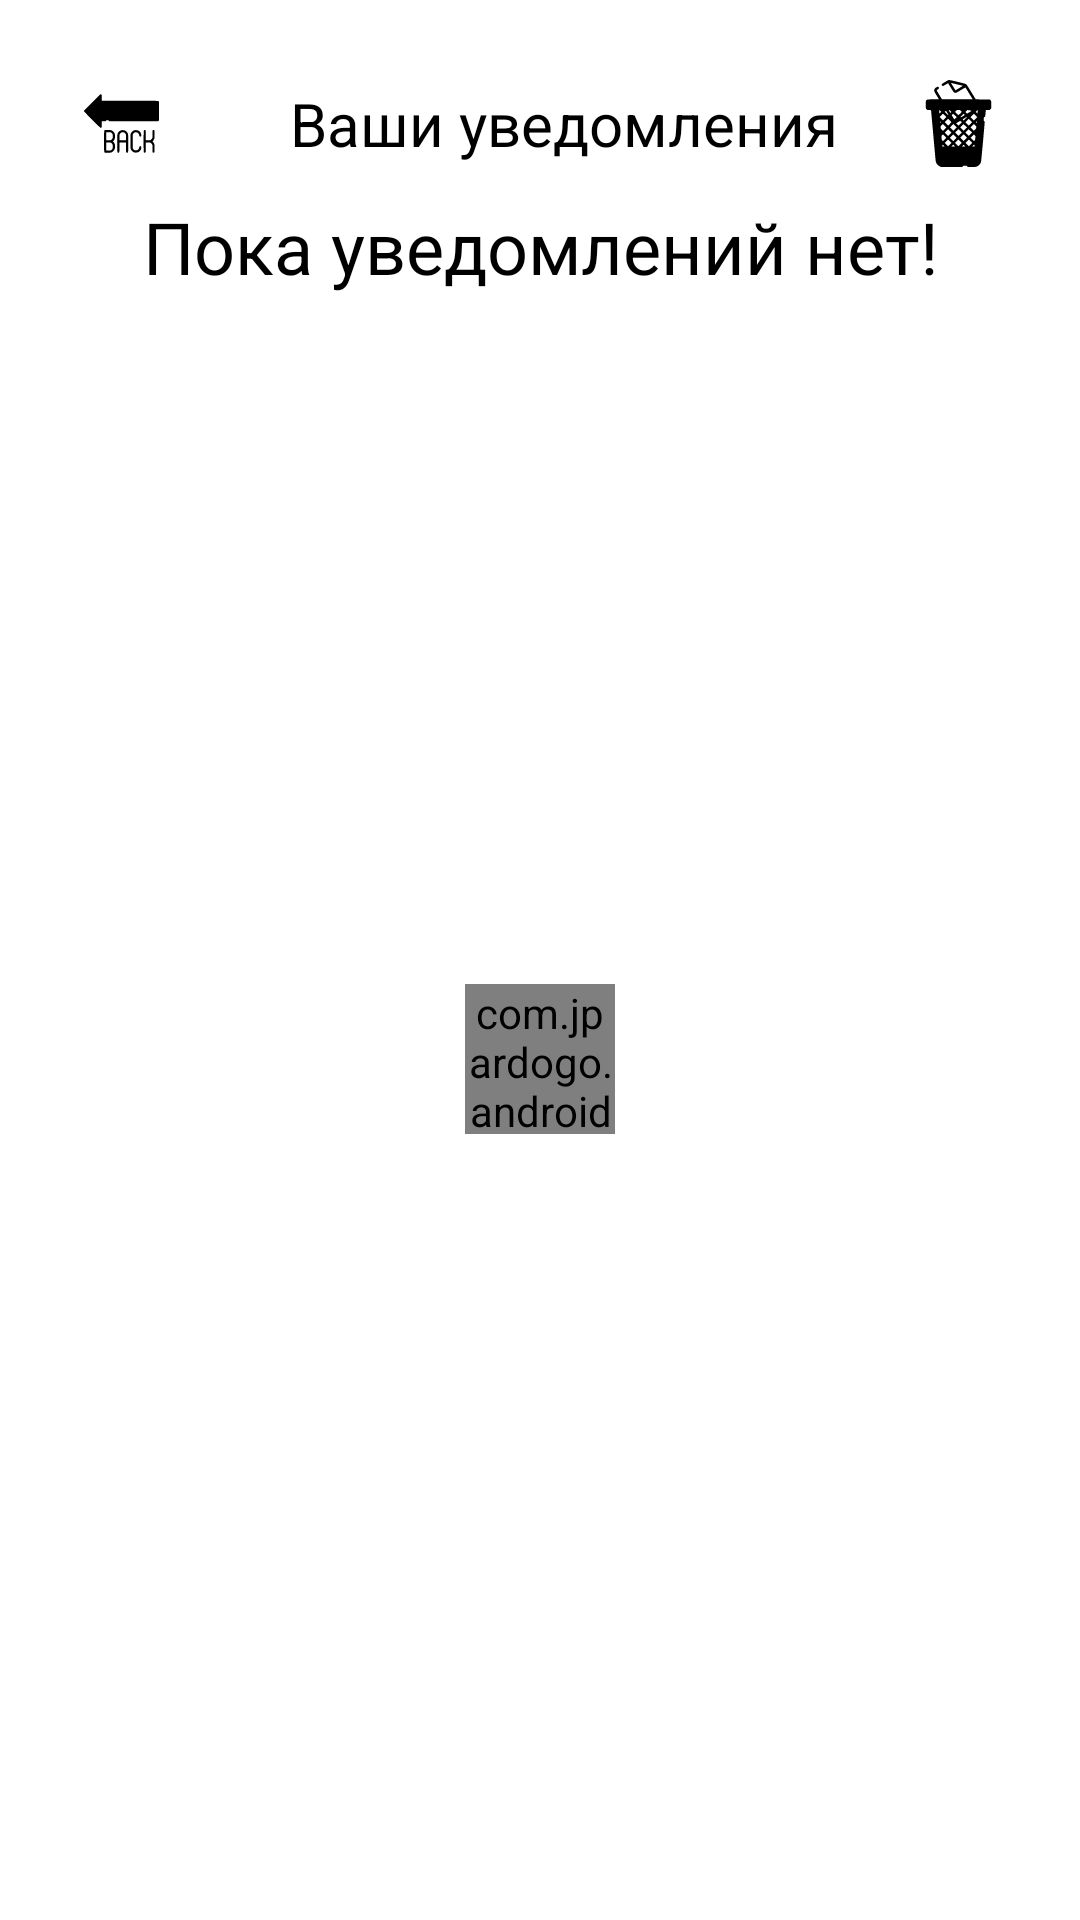

Where icons sit on this 1080px×1920px app screen, as detection(x1, y1, x2, y2):
rubbish bin: detection(925, 80, 992, 167)
